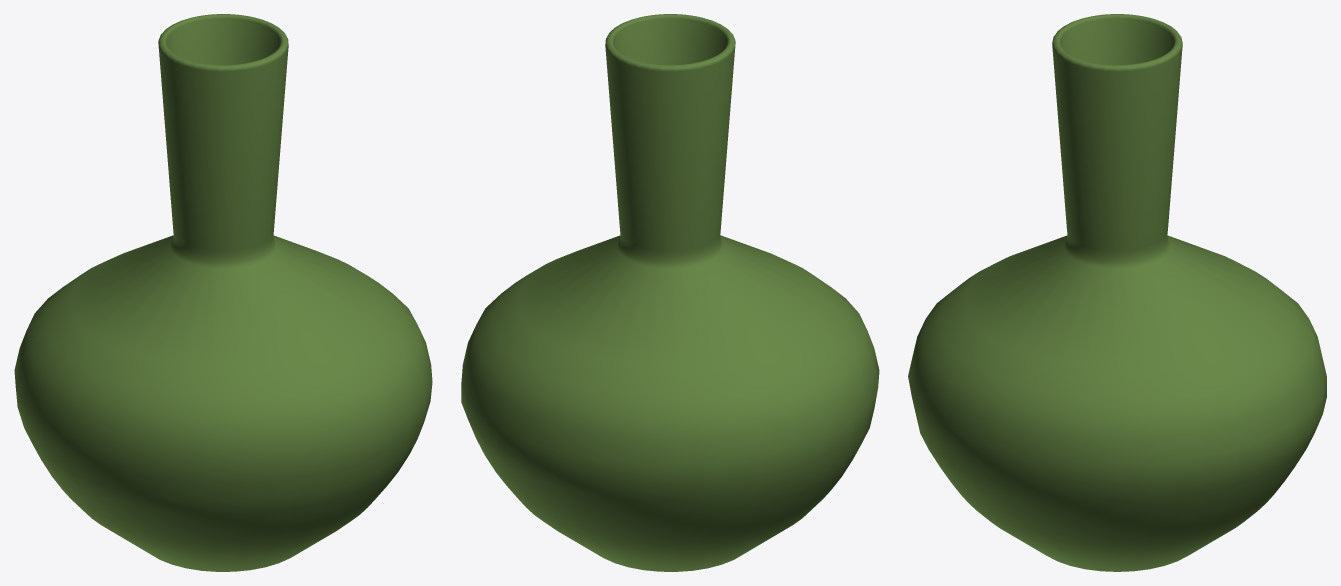
File: Vaza.fbx
3 renders of one model, left to right at view 1: azimuth 30°, elevation 25°; view 2: azimuth 150°, elevation 25°; view 3: azimuth 270°, elevation 25°, orthographic.
Visible parts, largest first — view 1: Vaza1; view 2: Vaza1; view 3: Vaza1.
Boxes of the visible parts, x1=… form: Vaza1: x1=14, y1=14, x2=432, y2=571; Vaza1: x1=461, y1=14, x2=879, y2=571; Vaza1: x1=908, y1=14, x2=1326, y2=571.
Size of the model in its own units: 0.2703 by 0.3534 by 0.2704.
